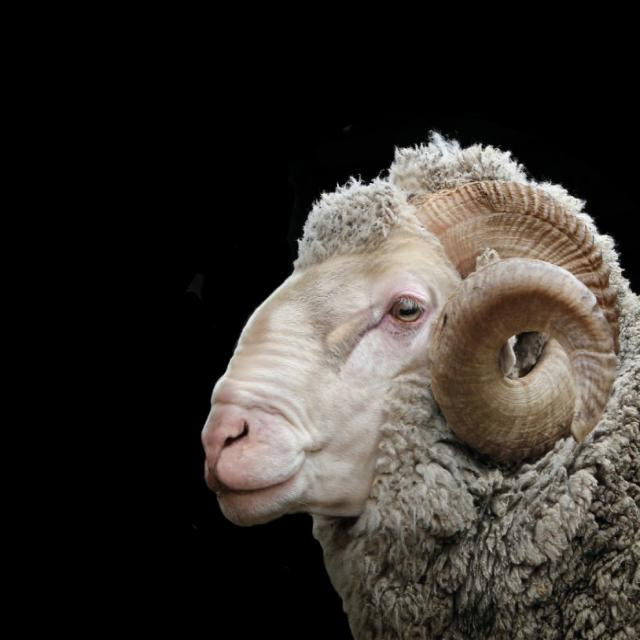sheep: (203, 132, 640, 639)
